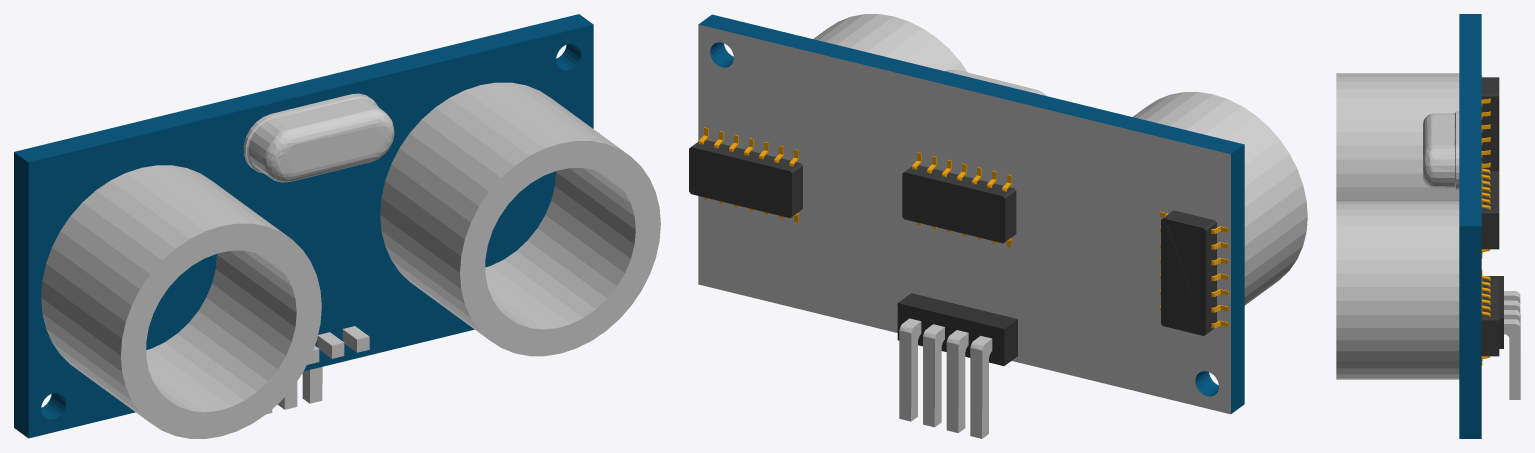
3 views of the same model, side by side, from view 1: azimuth 30°, elevation 25°; view 2: azimuth 150°, elevation 25°; view 3: azimuth 270°, elevation 25° (orthographic). The views are drawn at different scales.
Parts seen in each view (by area): view 1: part1, part0; view 2: part1, part3, part0, part4, part2; view 3: part1, part0, part3, part2, part4.
Boxes of the visible parts, bbox=[...] form: part1: bbox=[41, 82, 660, 438]; part0: bbox=[14, 14, 593, 438]; part1: bbox=[698, 14, 1307, 438]; part3: bbox=[689, 140, 1216, 335]; part0: bbox=[698, 14, 1244, 413]; part4: bbox=[897, 293, 1017, 365]; part2: bbox=[699, 127, 1228, 328]; part1: bbox=[1336, 73, 1520, 399]; part0: bbox=[1459, 14, 1481, 438]; part3: bbox=[1481, 77, 1499, 356]; part2: bbox=[1481, 76, 1490, 365]; part4: bbox=[1486, 276, 1503, 348].
Size of the model in its own units: 0.045 by 0.026 by 0.0165.
